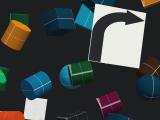Right: (88, 4, 146, 68)
